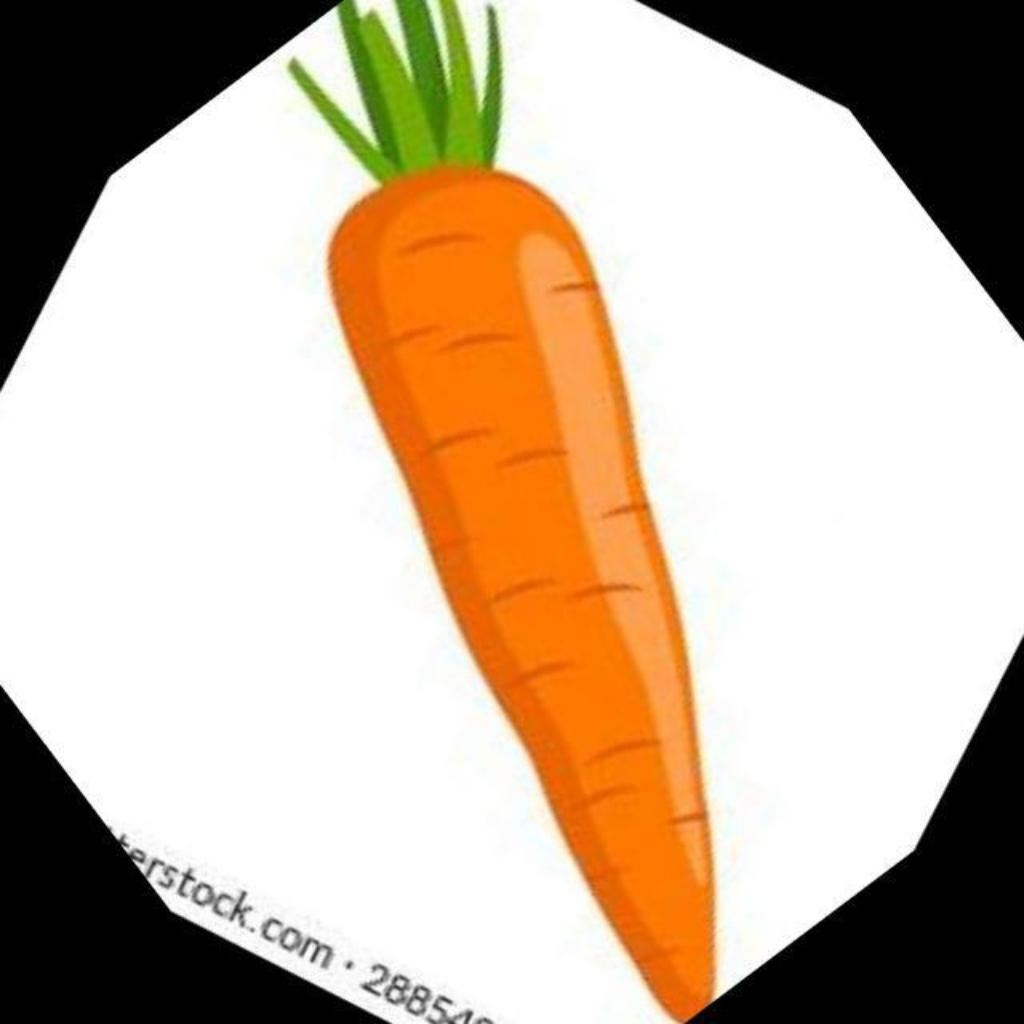carrot: (290, 0, 714, 1019)
